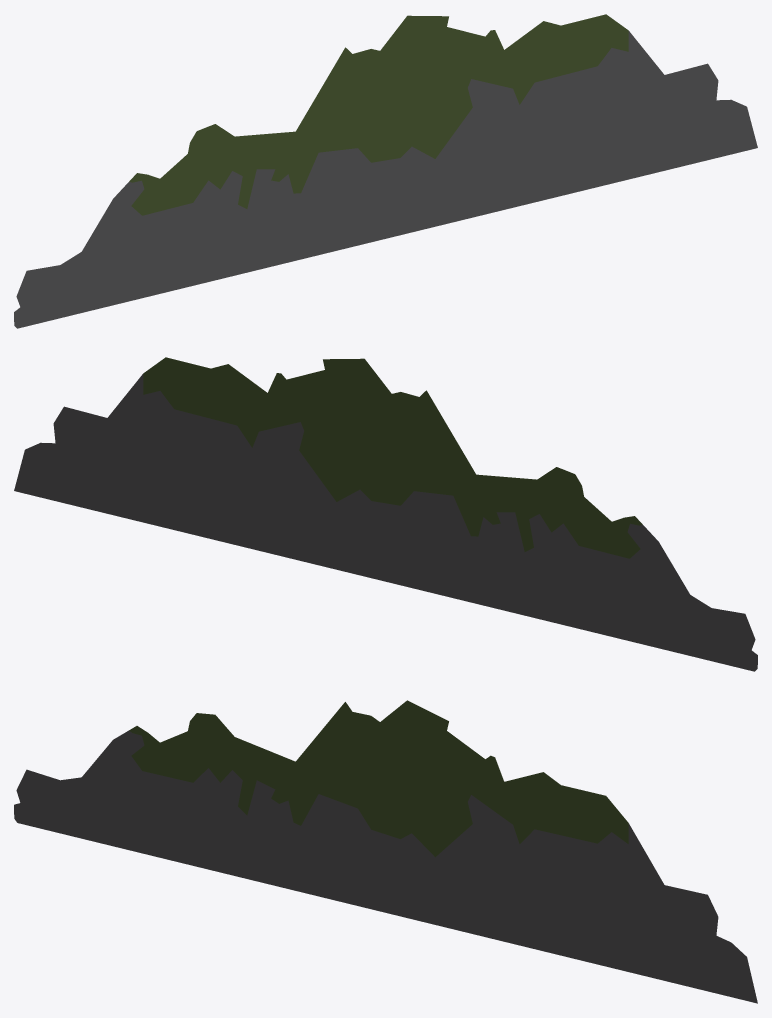
File: SM_Env_Background_Island_06.glb
The picture shows the model from 3 angles, top to bottom: view 1: azimuth 30°, elevation 25°; view 2: azimuth 150°, elevation 25°; view 3: azimuth 330°, elevation 25°; orthographic projection.
Visible parts, largest first — view 1: SM_Env_Background_Island_06; view 2: SM_Env_Background_Island_06; view 3: SM_Env_Background_Island_06.
Part boxes in pixels (box(x1,y1,x2,y2)): SM_Env_Background_Island_06: box(14, 14, 757, 328); SM_Env_Background_Island_06: box(14, 357, 757, 671); SM_Env_Background_Island_06: box(14, 700, 757, 1003).
Bounding box in the file's own units: 0.4547 × 0.1272 × 3.15e-08.
